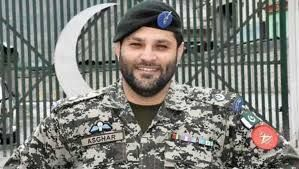uniform: (29, 68, 290, 169)
